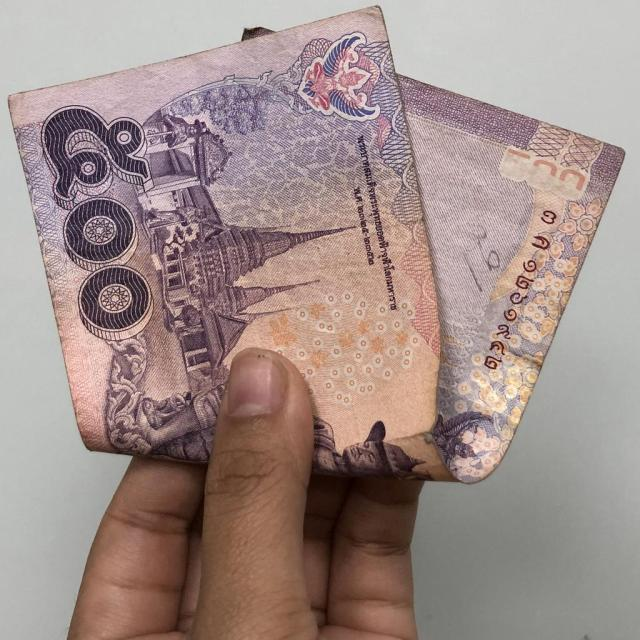THAI500: (8, 7, 626, 486)
